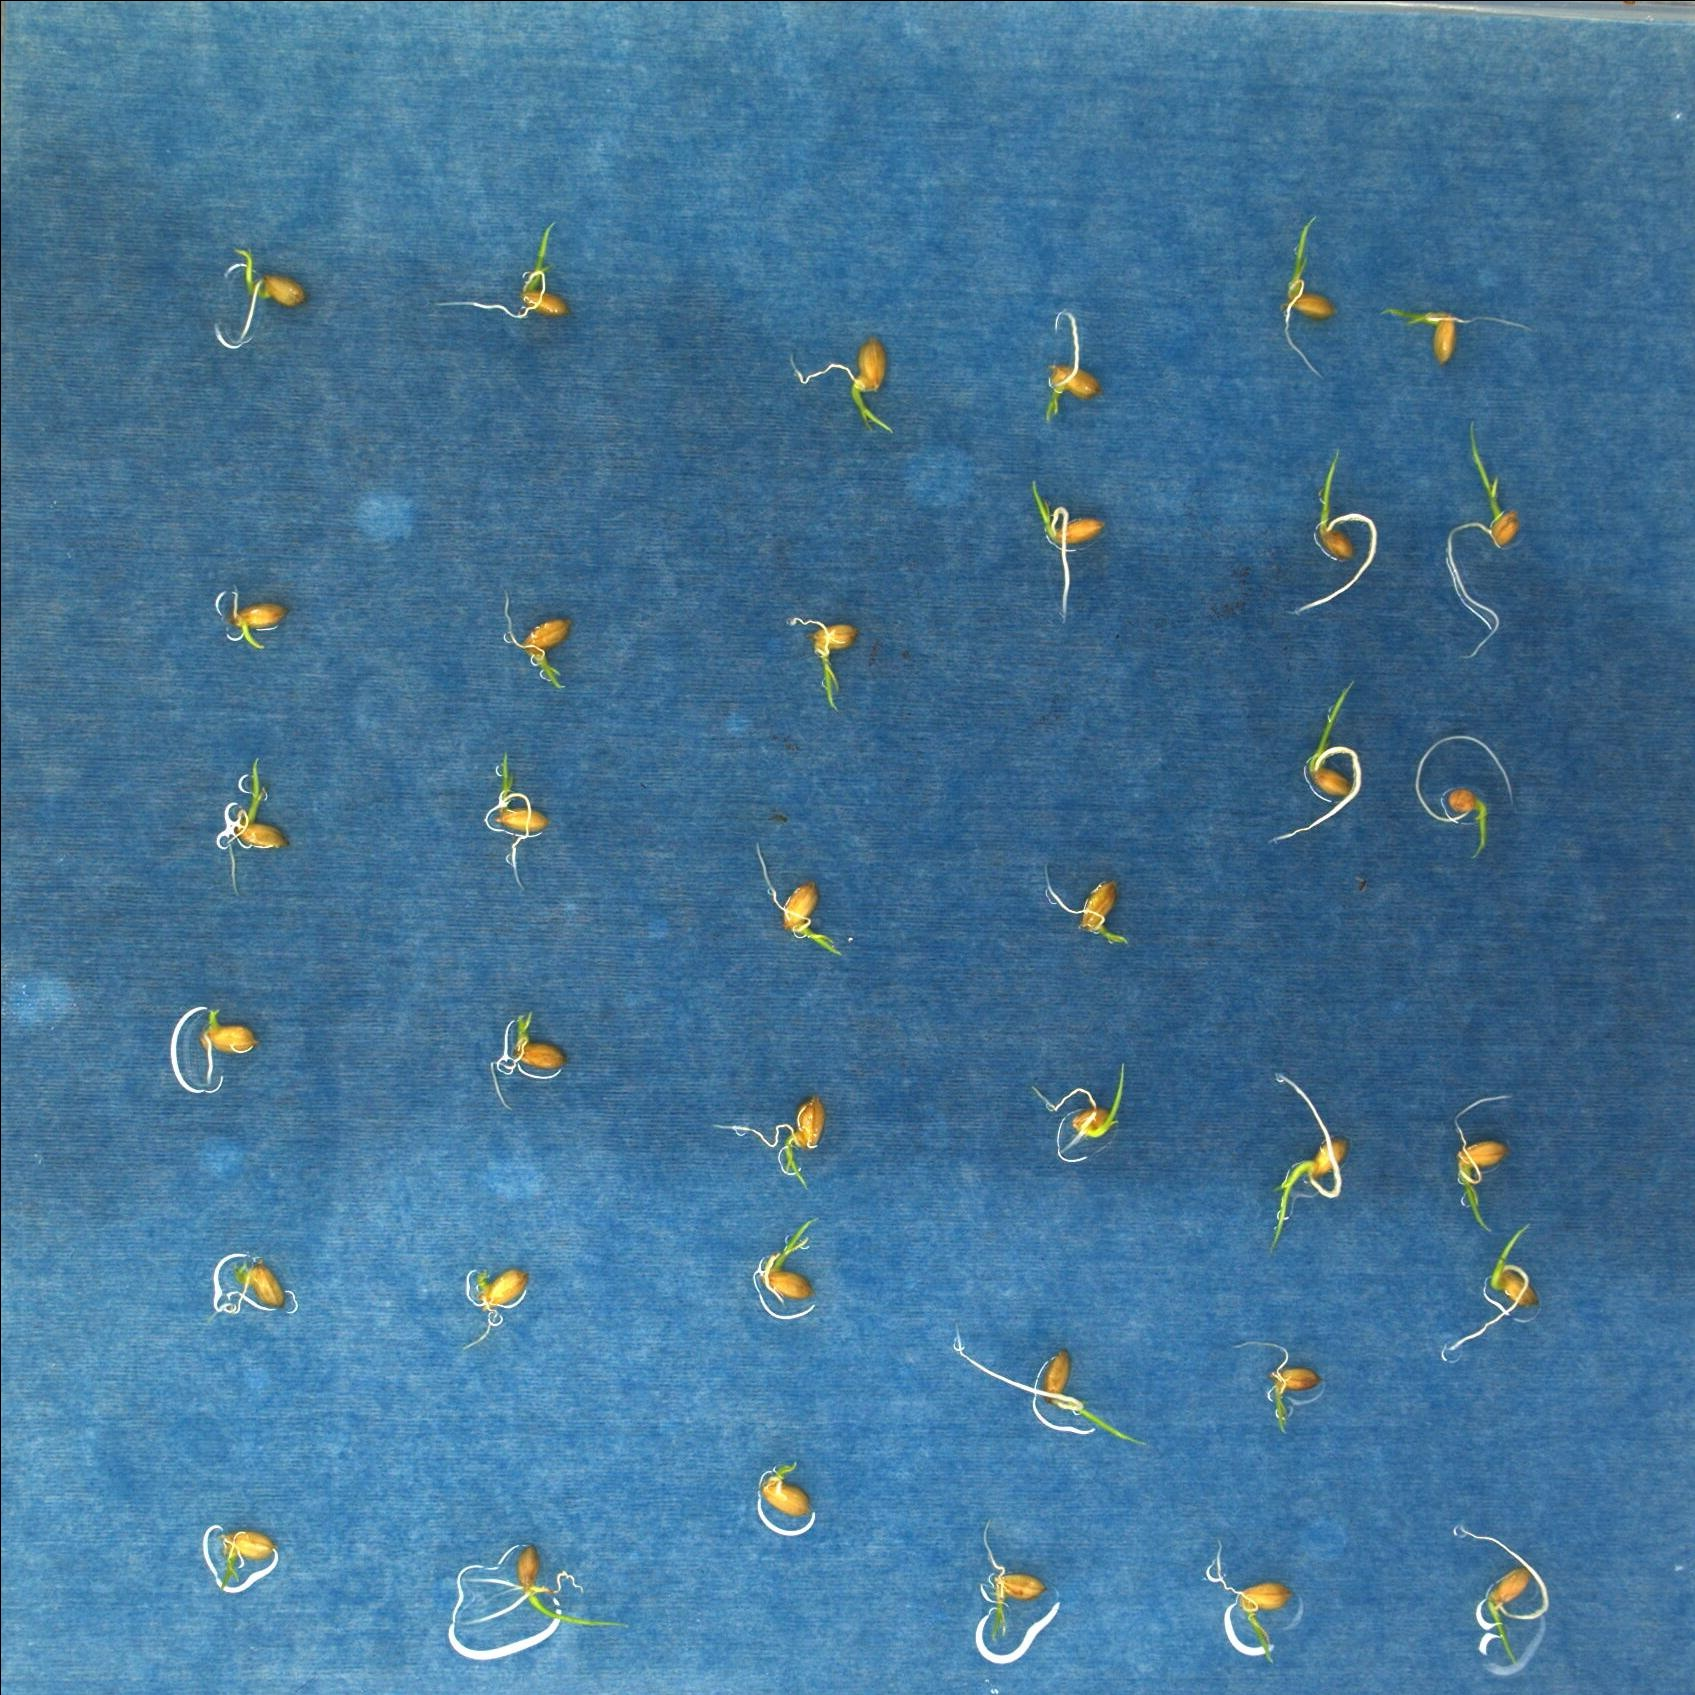not sprout: (455, 1260, 546, 1364), (203, 1527, 284, 1610), (206, 1253, 290, 1330), (189, 1009, 264, 1093)
sprout: (947, 1329, 1153, 1465), (1434, 421, 1524, 660), (1257, 1066, 1349, 1263), (456, 1544, 638, 1641), (1287, 447, 1386, 616), (1267, 677, 1367, 843), (1447, 1512, 1551, 1669), (1442, 1220, 1551, 1363), (1411, 730, 1520, 869), (435, 217, 573, 324), (1445, 1080, 1529, 1243), (1197, 1540, 1298, 1670), (1026, 1063, 1138, 1172), (210, 241, 315, 354), (712, 1090, 827, 1194), (784, 332, 893, 439), (1028, 477, 1107, 621), (753, 843, 847, 962), (1226, 1329, 1324, 1440), (975, 1516, 1051, 1656), (210, 761, 293, 886), (1389, 300, 1530, 369), (1271, 205, 1329, 374), (495, 585, 584, 694), (775, 608, 861, 714), (1040, 860, 1135, 956), (486, 754, 557, 882), (1037, 309, 1108, 432), (751, 1215, 827, 1310), (210, 584, 298, 660), (494, 1007, 567, 1083), (747, 1456, 810, 1529)
